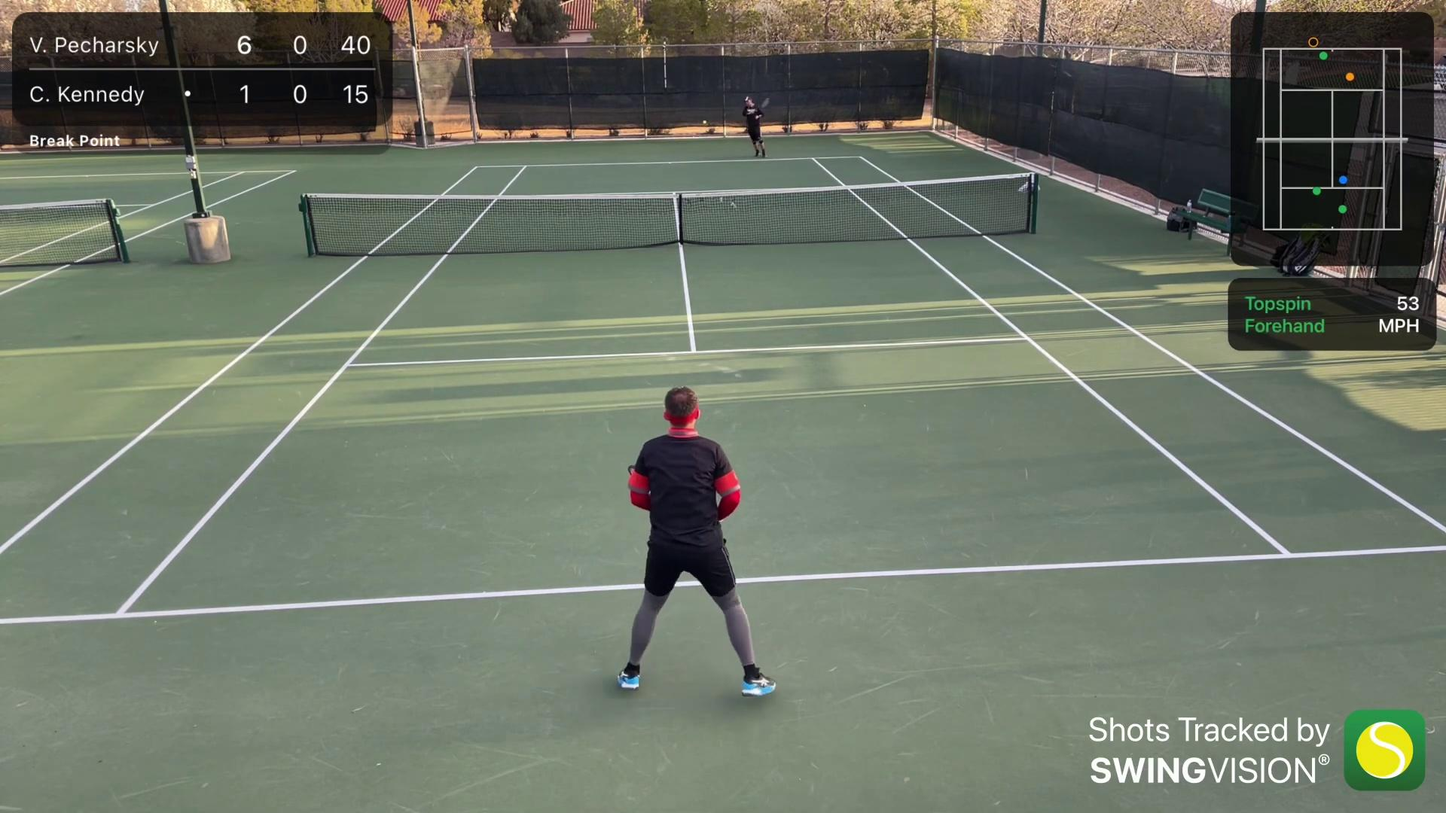ball: (700, 119, 706, 125)
